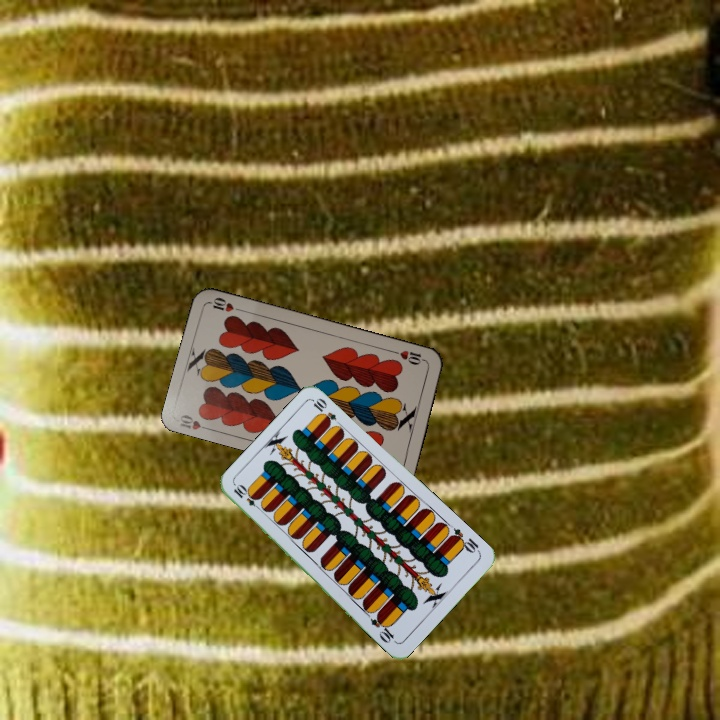E10: (446, 524, 483, 556), (230, 481, 265, 513)
H10: (176, 410, 215, 433), (389, 346, 429, 368)
